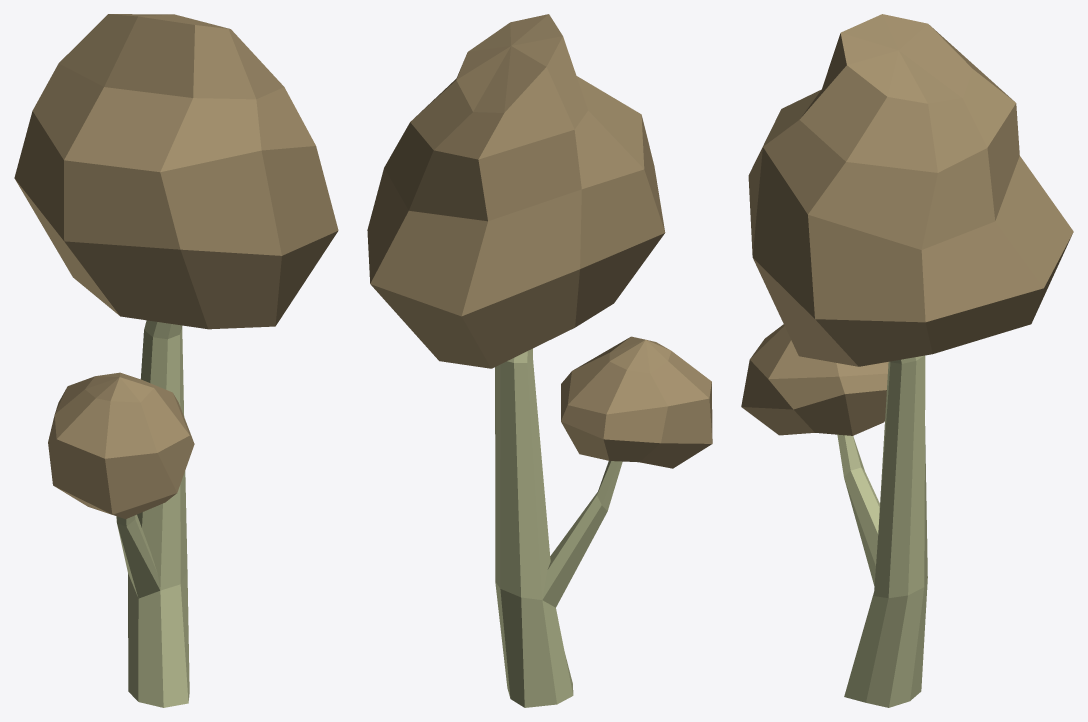
3 views of the same model, side by side, from view 1: azimuth 30°, elevation 25°; view 2: azimuth 150°, elevation 25°; view 3: azimuth 270°, elevation 25° (orthographic). The views are drawn at different scales.
Visible parts, largest first — view 1: Tree_oak_1; view 2: Tree_oak_1; view 3: Tree_oak_1.
Boxes of the visible parts, bbox=[...] form: Tree_oak_1: bbox=[14, 14, 338, 707]; Tree_oak_1: bbox=[367, 14, 712, 707]; Tree_oak_1: bbox=[741, 14, 1073, 707].
Bounding box in the file's own units: 0.2065 × 0.4501 × 0.2031.
